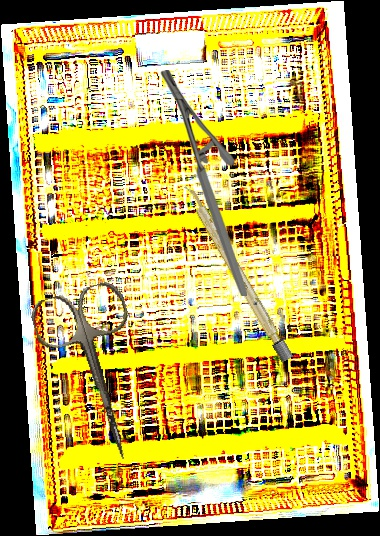Iris Scissors: (27, 278, 167, 473)
Needle Holder: (160, 70, 247, 296)
Scalpel Handle: (181, 182, 294, 363)
